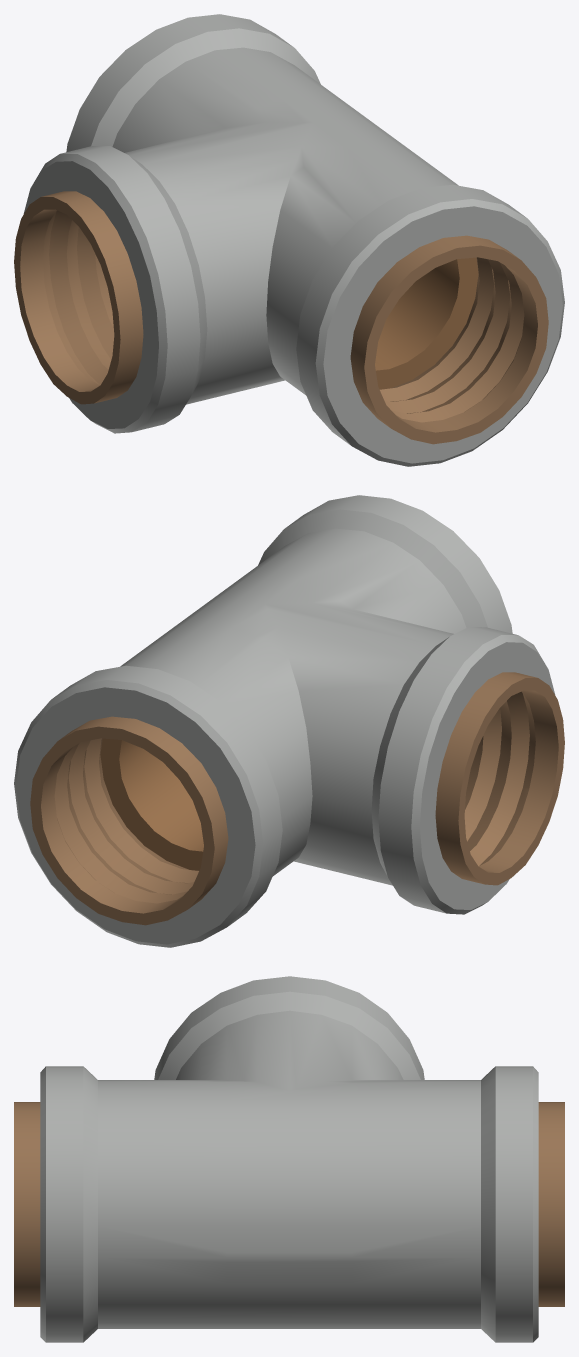
Rendered from pipes_supply__water_heater__9aa4148f.glb.
3 views of the same model, one above another, from view 1: azimuth 30°, elevation 25°; view 2: azimuth 150°, elevation 25°; view 3: azimuth 270°, elevation 25° (orthographic). The views are drawn at different scales.
Parts seen in each view (by area): view 1: fit_tee_pipe_supply_cold_chase__galvanized; view 2: fit_tee_pipe_supply_cold_chase__galvanized; view 3: fit_tee_pipe_supply_cold_chase__galvanized.
Part boxes in pixels (x1,y1,x2,y2): fit_tee_pipe_supply_cold_chase__galvanized: (14, 14, 564, 466); fit_tee_pipe_supply_cold_chase__galvanized: (14, 495, 564, 947); fit_tee_pipe_supply_cold_chase__galvanized: (14, 976, 564, 1342).
Size of the model in its own units: 0.0553 by 0.0371 by 0.0736.
